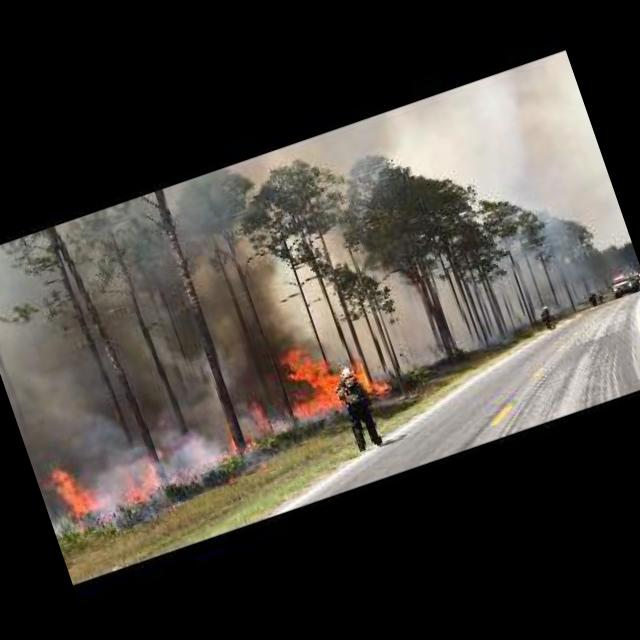fire: (264, 336, 349, 425), (40, 444, 108, 536), (351, 352, 392, 397)
